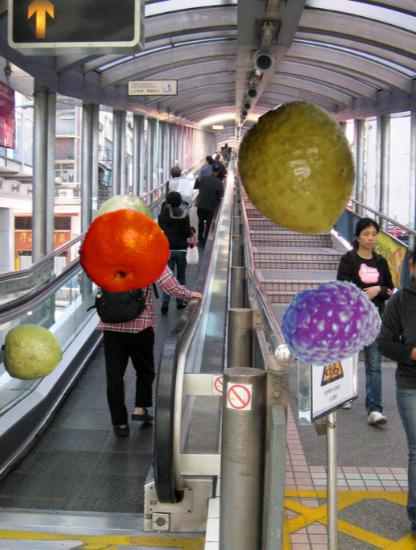Clementine: (75, 203, 171, 299)
Guava: (233, 104, 367, 238)
Limes: (92, 192, 155, 255), (1, 322, 64, 385)
Raspberry: (279, 272, 383, 376)
